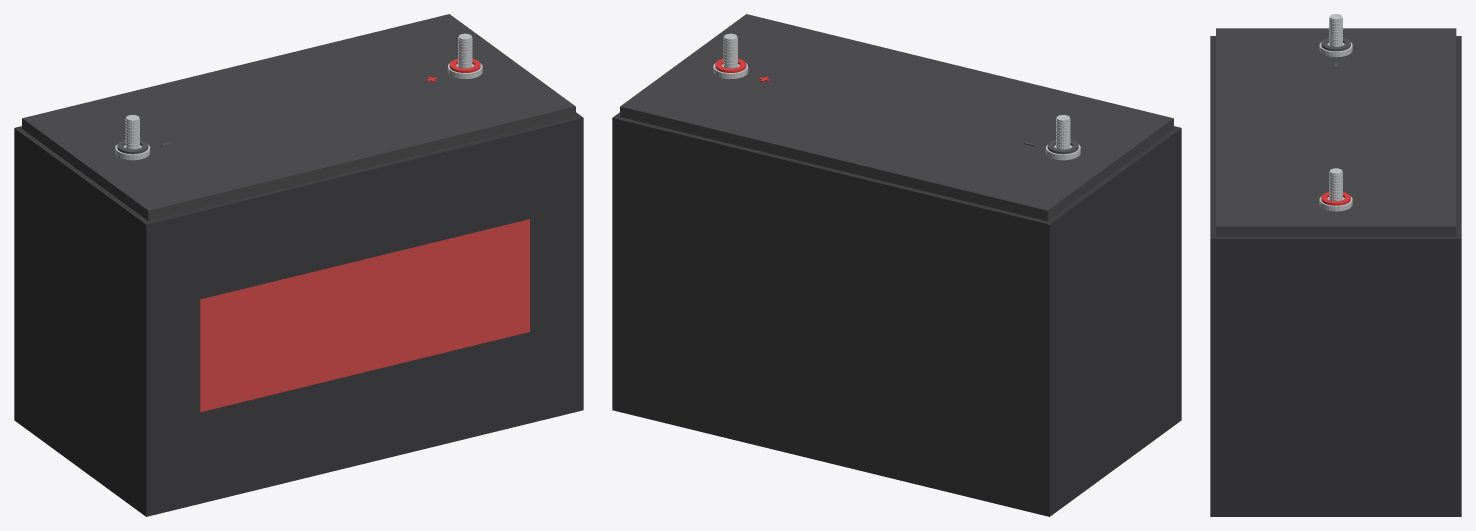
Rendered from odyssey-odp-agm31.glb.
3 views of the same model, side by side, from view 1: azimuth 30°, elevation 25°; view 2: azimuth 150°, elevation 25°; view 3: azimuth 270°, elevation 25° (orthographic). The views are drawn at different scales.
Visible parts, largest first — view 1: case, lid, label, stud_neg, stud_pos; view 2: case, lid, stud_neg, stud_pos; view 3: case, lid, stud_pos, stud_neg.
Boxes of the visible parts, x1,y1,x2,y2 form: case: [14, 112, 583, 516]; lid: [22, 14, 575, 221]; label: [200, 219, 529, 412]; stud_neg: [115, 115, 150, 160]; stud_pos: [447, 33, 482, 79]; case: [612, 112, 1181, 516]; lid: [620, 14, 1173, 221]; stud_neg: [1045, 115, 1080, 160]; stud_pos: [713, 33, 748, 79]; case: [1210, 36, 1461, 516]; lid: [1216, 28, 1456, 236]; stud_pos: [1319, 168, 1352, 211]; stud_neg: [1319, 14, 1352, 57].
Bounding box in the file's own units: 0.3302 × 0.2438 × 0.1728.
